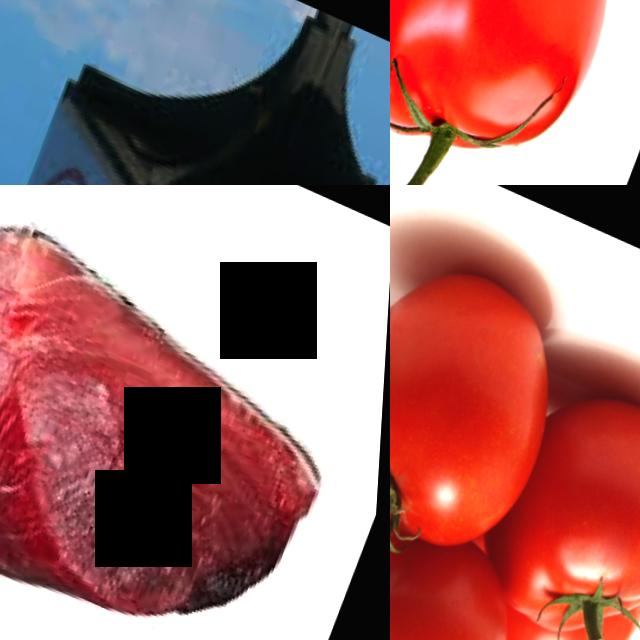tomato: (390, 218, 594, 573), (474, 342, 640, 640), (390, 0, 640, 185), (390, 485, 546, 640)
tuna: (0, 185, 376, 640)
